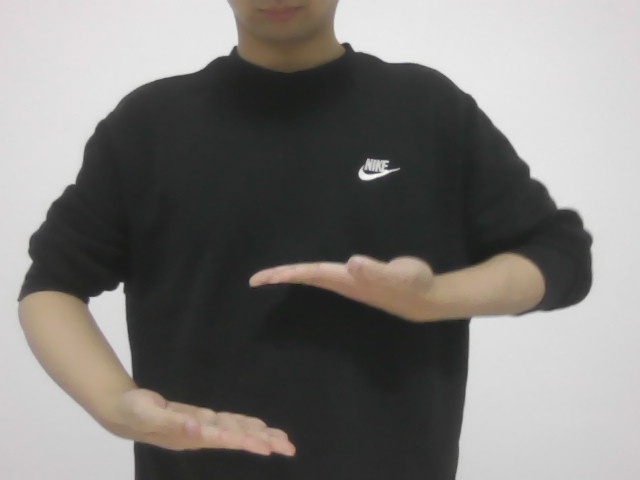happy: (123, 236, 446, 477)
